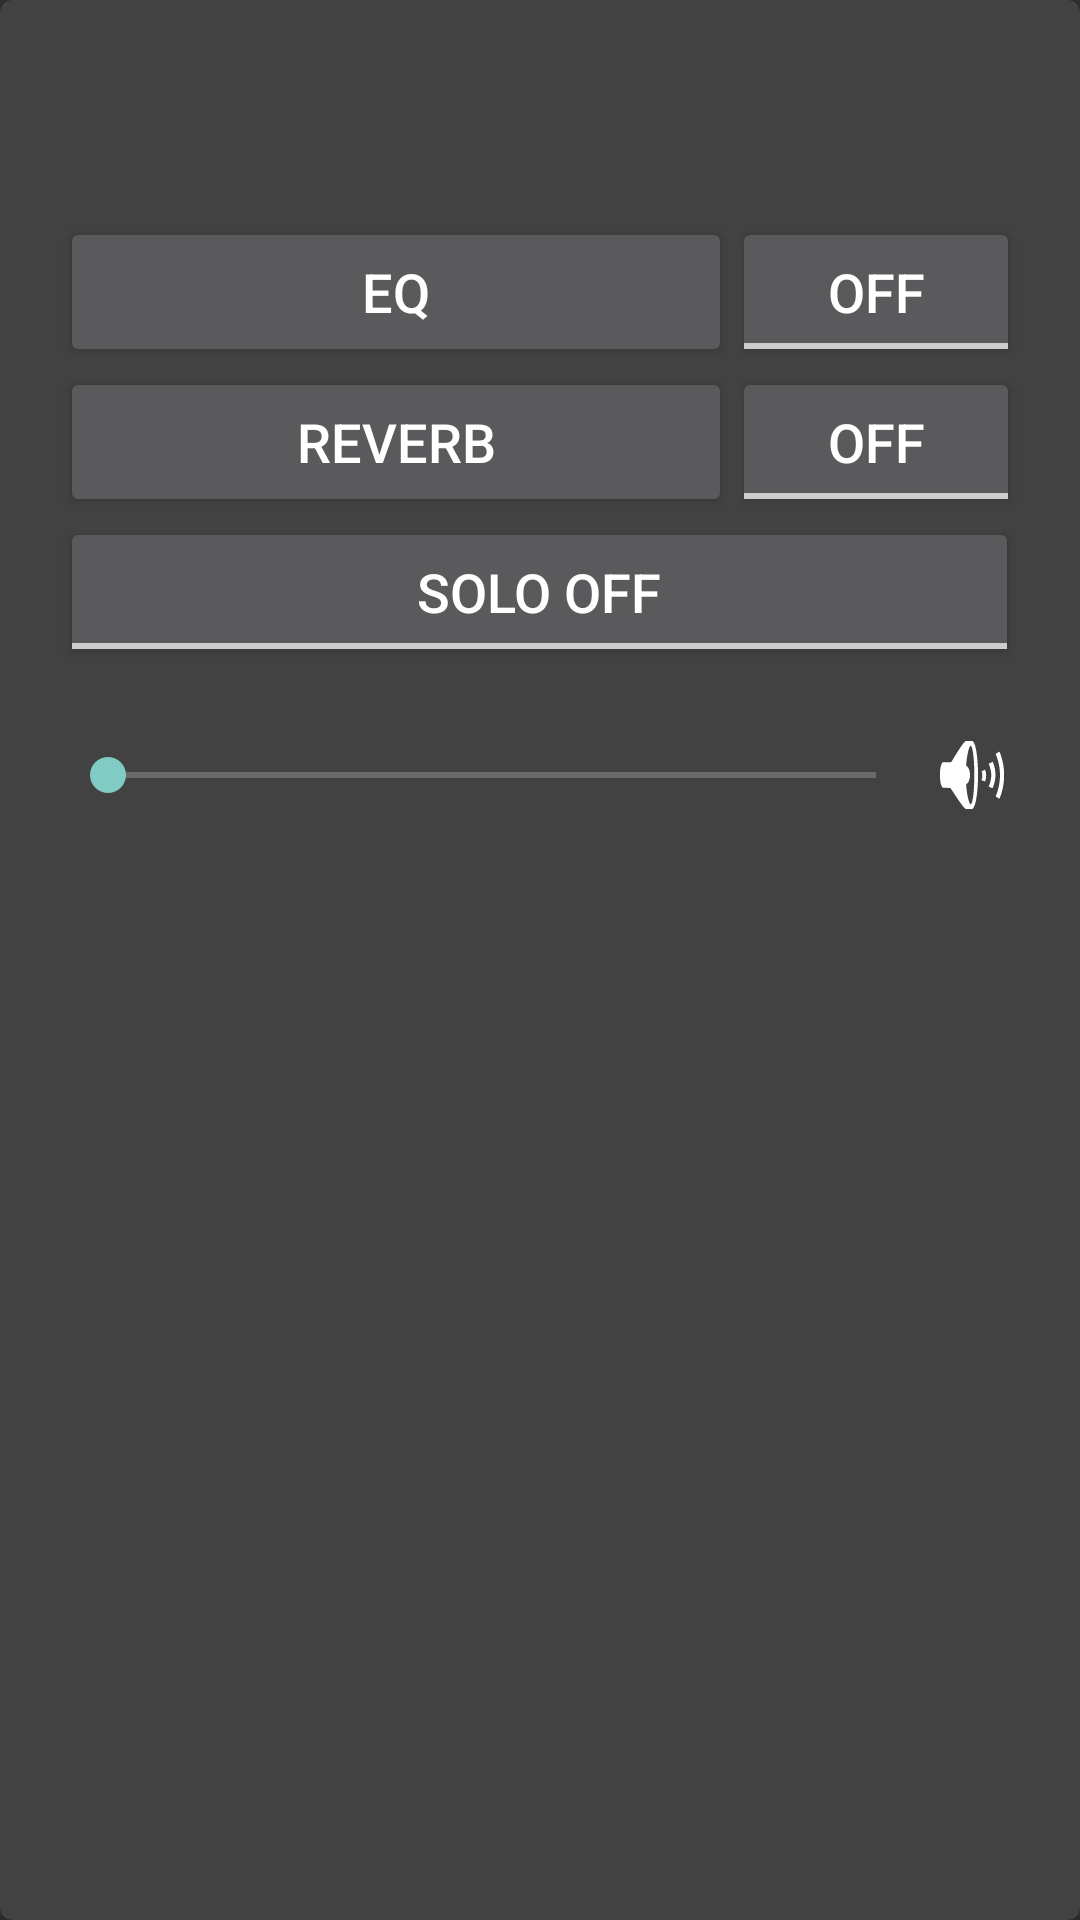

Where to tap for icons on this 1080px×1920px app screen, as point (x, y):
lock silent mode off: point (972, 775)
